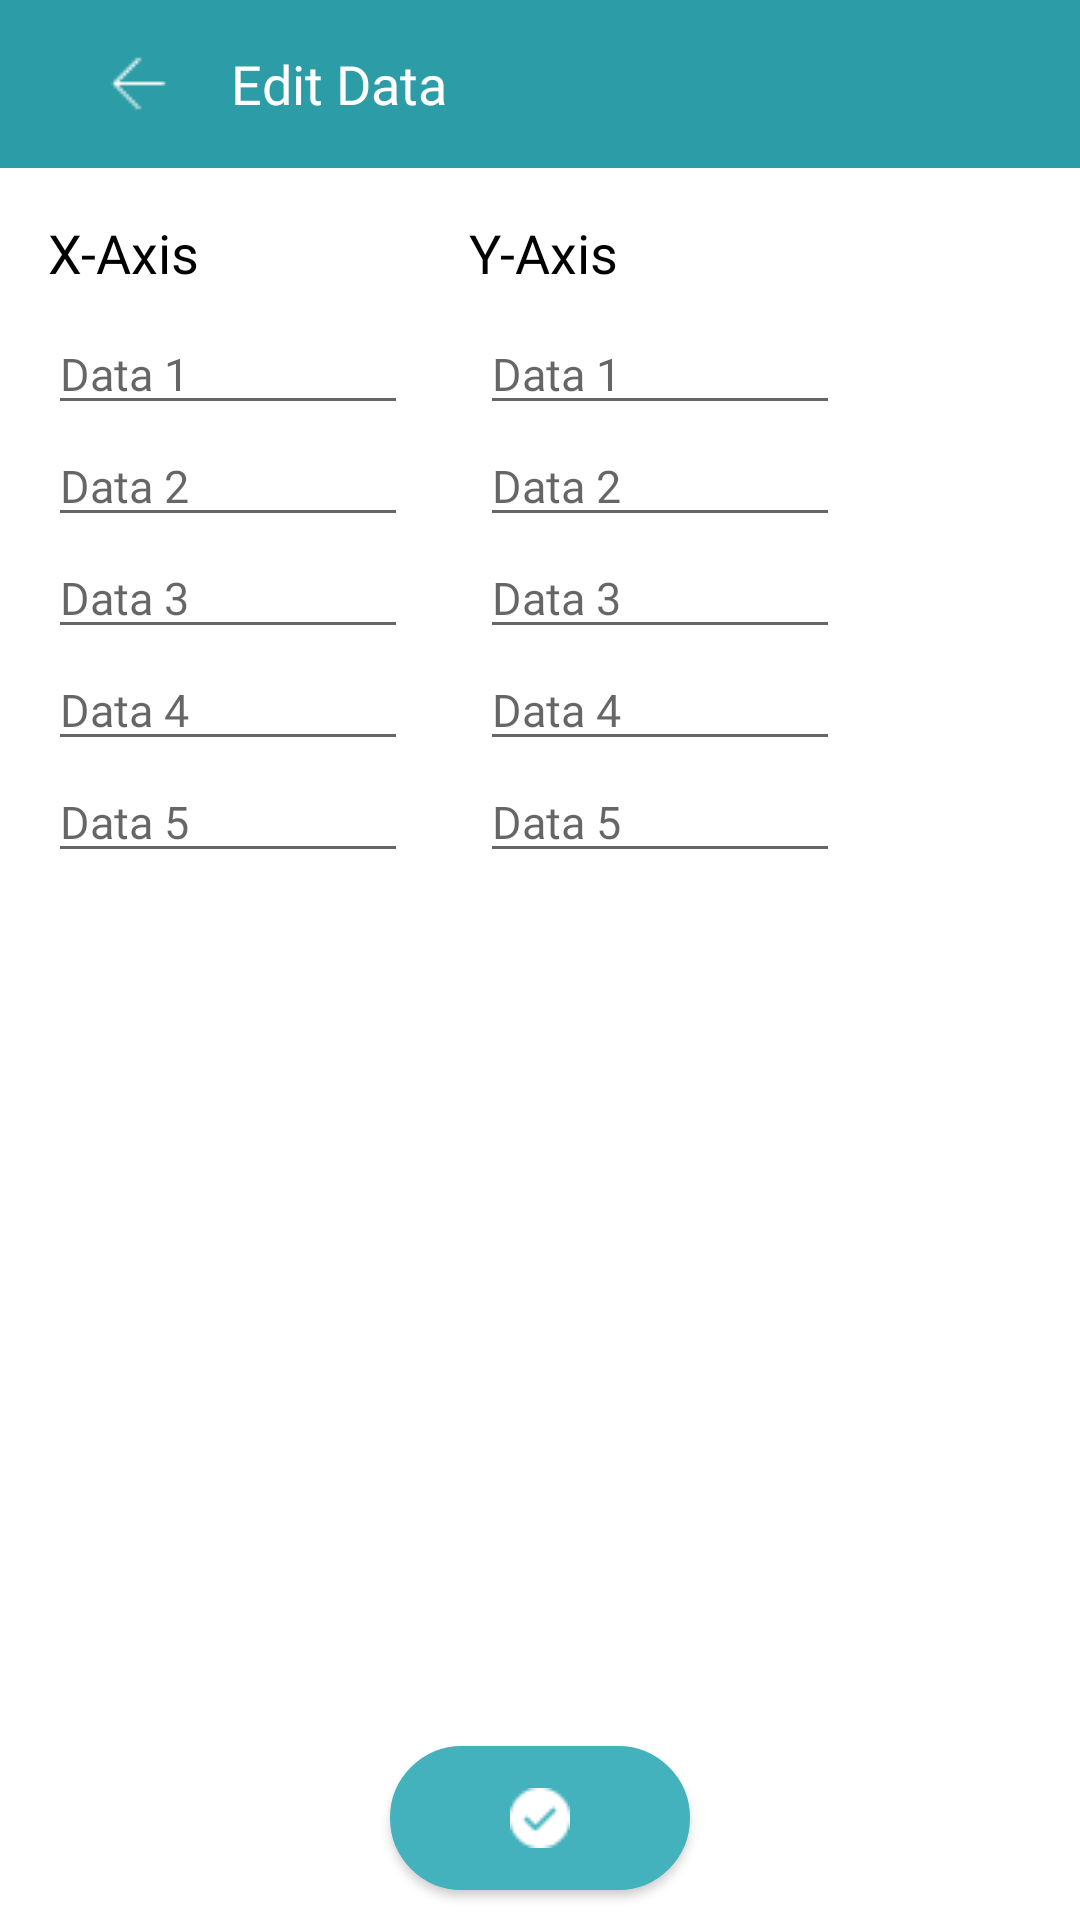

Icons on this 1080*1920 Android screen, each with its box as bbox=(x1, y1, x2, y2):
fback: bbox=(111, 57, 166, 110)
